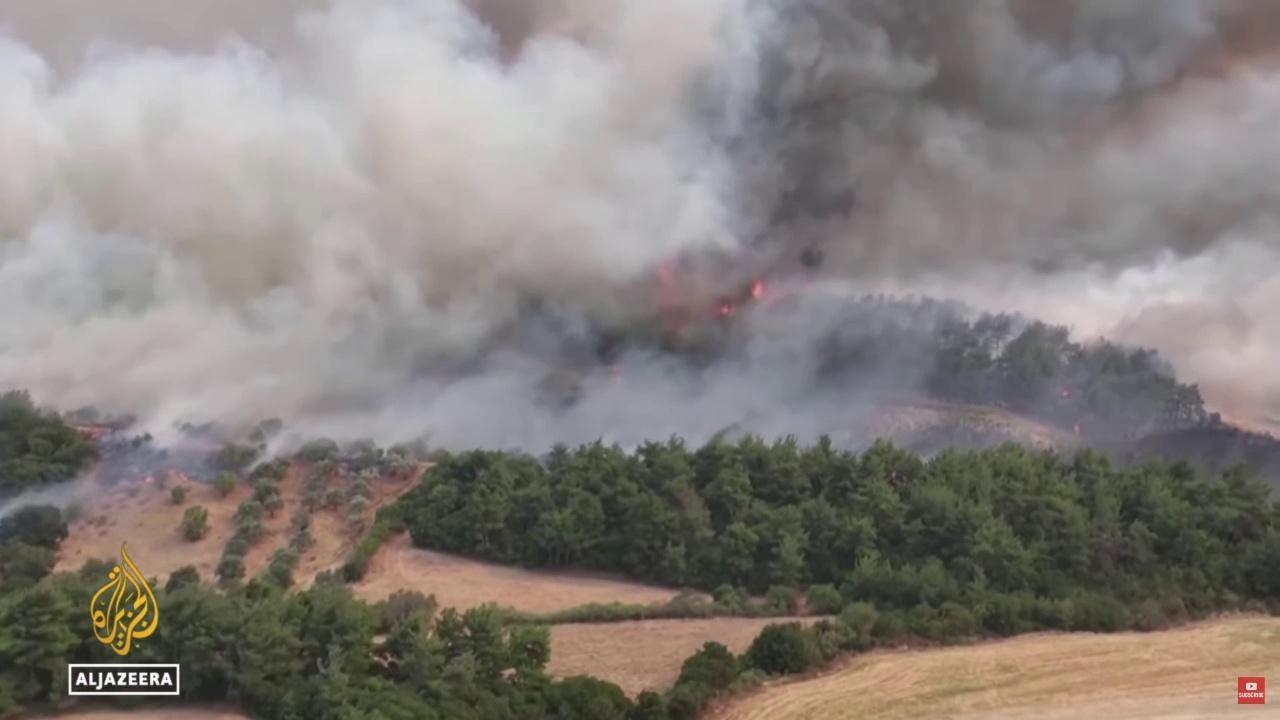fire: (660, 263, 678, 337), (750, 280, 765, 300), (719, 302, 735, 318), (1074, 423, 1079, 437), (1063, 390, 1069, 397)
smoke: (0, 0, 1280, 521)
